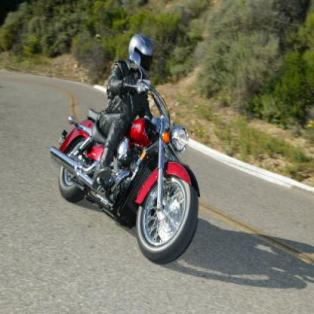Motocicleta: (48, 84, 198, 262)
